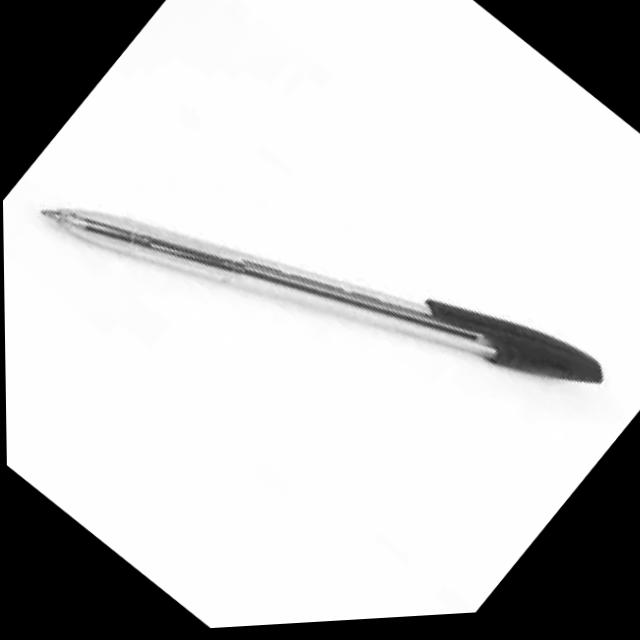pen: (31, 1, 616, 581)
